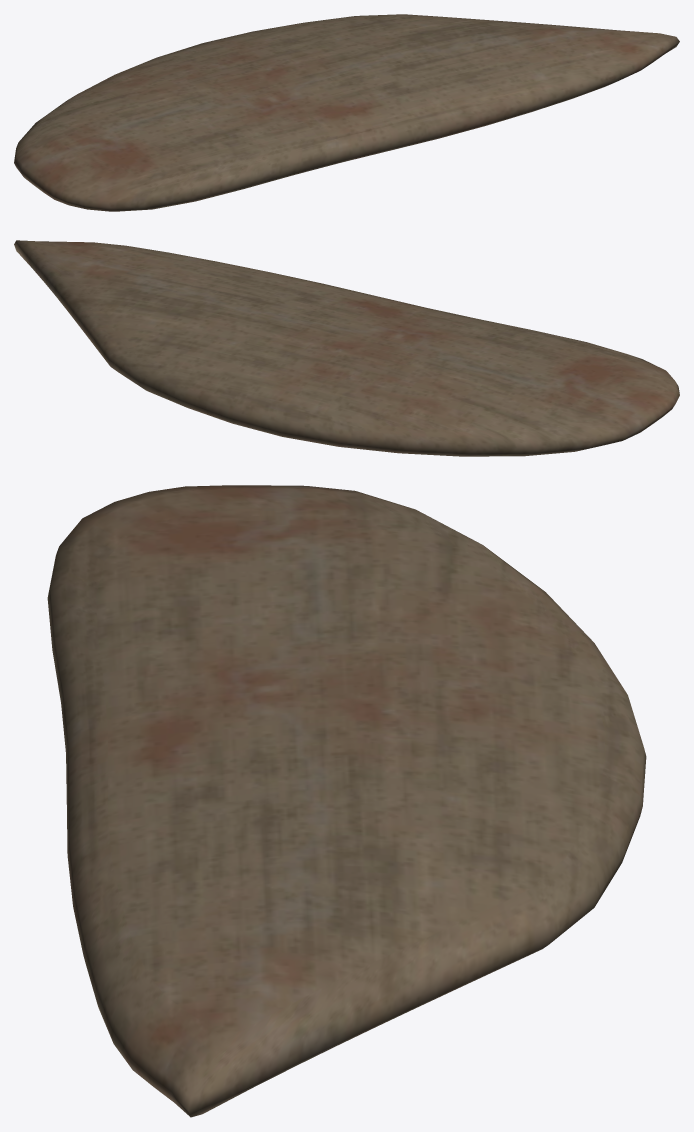
The model's file is willow_leaf_06.glb.
3 views of the same model, one above another, from view 1: azimuth 30°, elevation 25°; view 2: azimuth 150°, elevation 25°; view 3: azimuth 270°, elevation 25° (orthographic). The views are drawn at different scales.
Parts seen in each view (by area): view 1: willow_leaf_06; view 2: willow_leaf_06; view 3: willow_leaf_06.
Boxes of the visible parts, <box> form: willow_leaf_06: <box>14,14,679,211</box>; willow_leaf_06: <box>14,240,679,456</box>; willow_leaf_06: <box>47,485,646,1117</box>.
Bounding box in the file's own units: 0.1051 × 0.00777 × 0.0433.
1 material, 1 textured.
